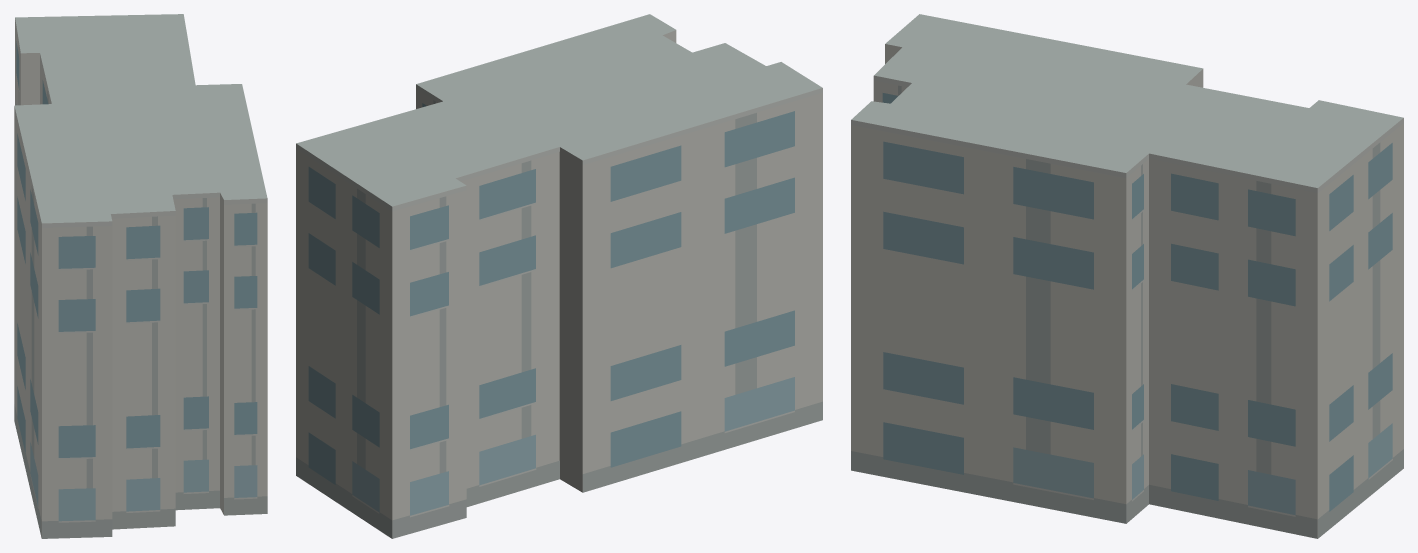
File: survey-upis-32816196.glb
3 views of the same model, side by side, from view 1: azimuth 30°, elevation 25°; view 2: azimuth 150°, elevation 25°; view 3: azimuth 270°, elevation 25° (orthographic). The views are drawn at different scales.
Visible parts, largest first — view 1: survey-upis-32816196.tmp; view 2: survey-upis-32816196.tmp; view 3: survey-upis-32816196.tmp.
Boxes of the visible parts, x1=… form: survey-upis-32816196.tmp: x1=14, y1=14, x2=267, y2=538; survey-upis-32816196.tmp: x1=296, y1=14, x2=822, y2=538; survey-upis-32816196.tmp: x1=851, y1=14, x2=1403, y2=538.
Bounding box in the file's own units: 17.47 × 16.4 × 23.43.
